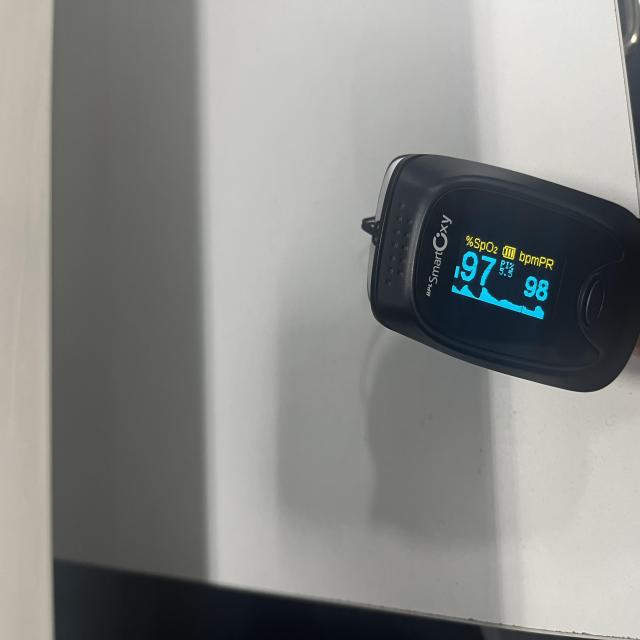spo2: (362, 154, 640, 395)
